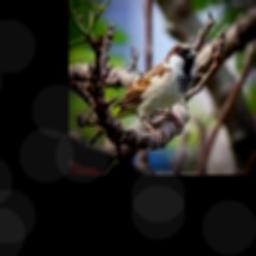Sparrow: (113, 43, 197, 139)
